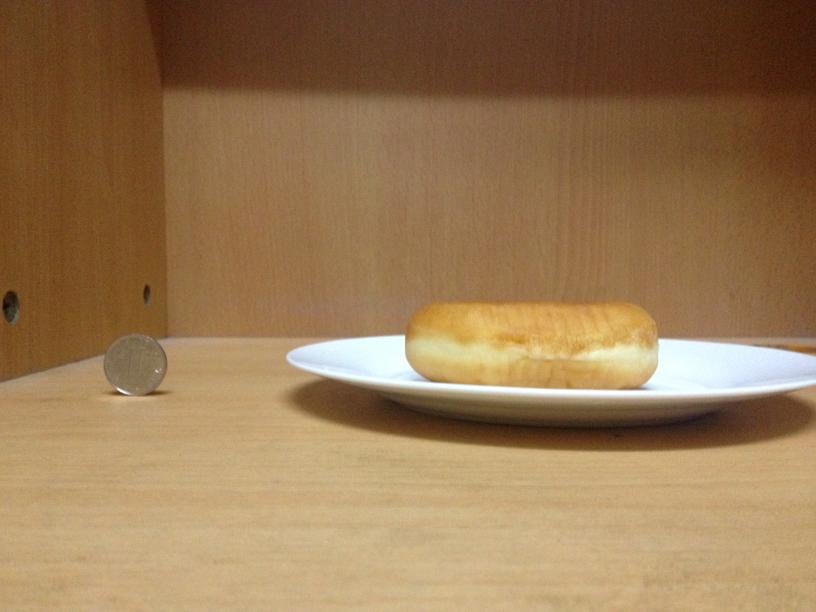coin: (103, 331, 167, 395)
doughnut: (400, 298, 659, 386)
